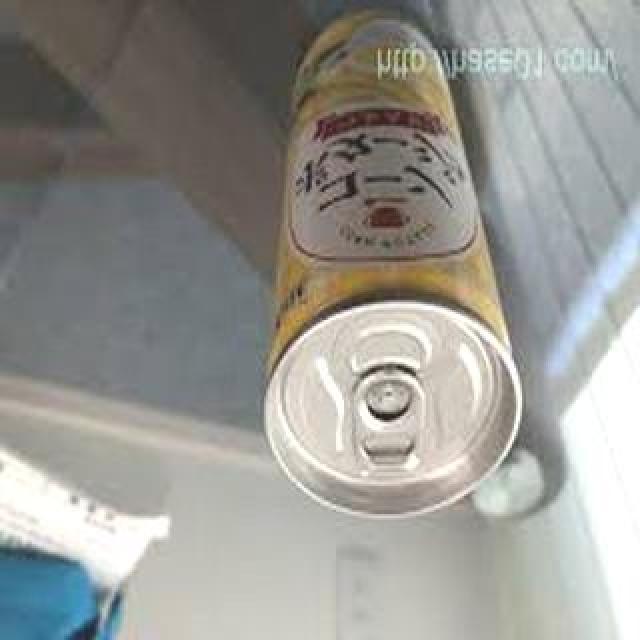Can: (256, 12, 524, 518)
